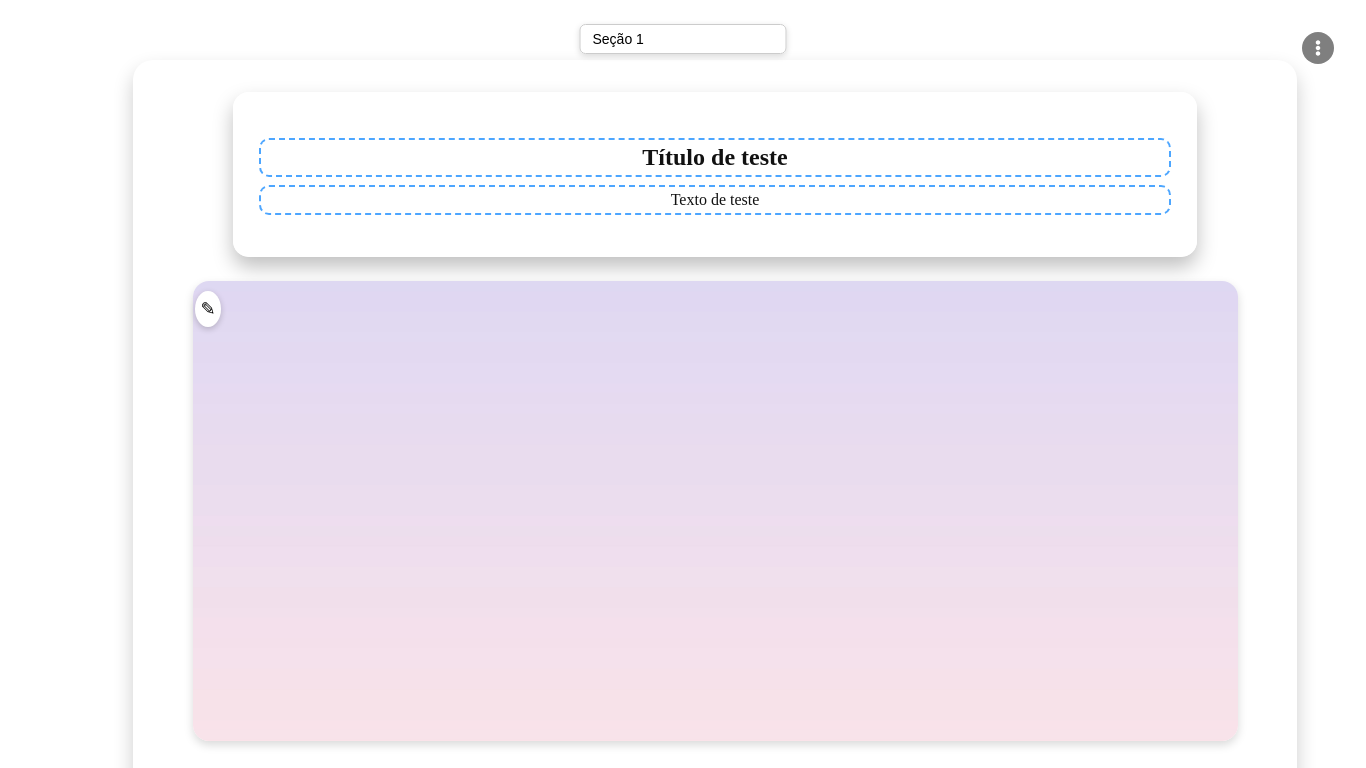
Test: EditorSecoes › renderiza uma seção e mostra controles ao clicar no menu
Check: the field with placeholder "Nome da seção" is shown, box [580, 24, 786, 54]
// Clica no botão de três pontinhos para abrir o menu
Click the button titled "Mais opções" at (1318, 48), box [1302, 32, 1334, 64]
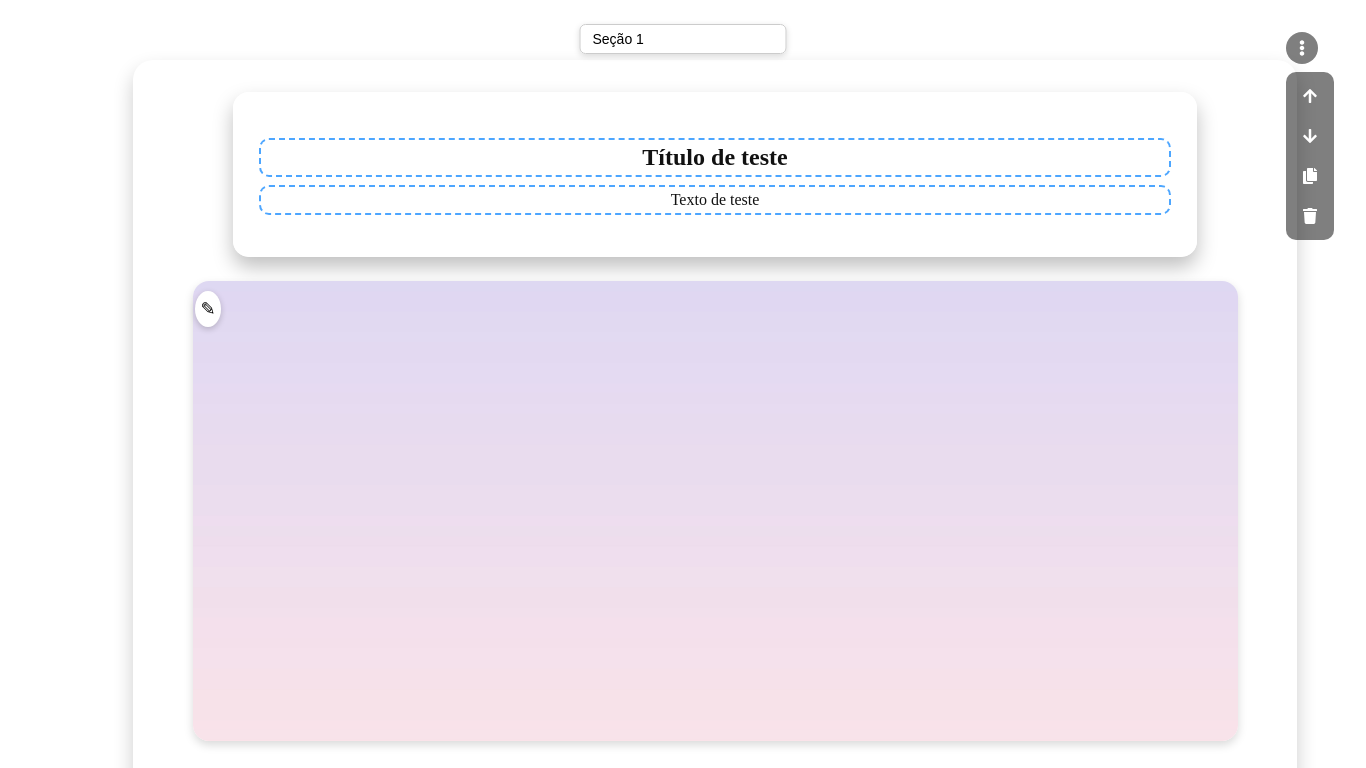
Check: the button titled "Duplicar seção" is shown, box [1294, 160, 1326, 192]
Check: the button titled "Remover seção" is shown, box [1294, 200, 1326, 232]
Check: the button titled "Mover para cima" is shown, box [1294, 80, 1326, 112]
